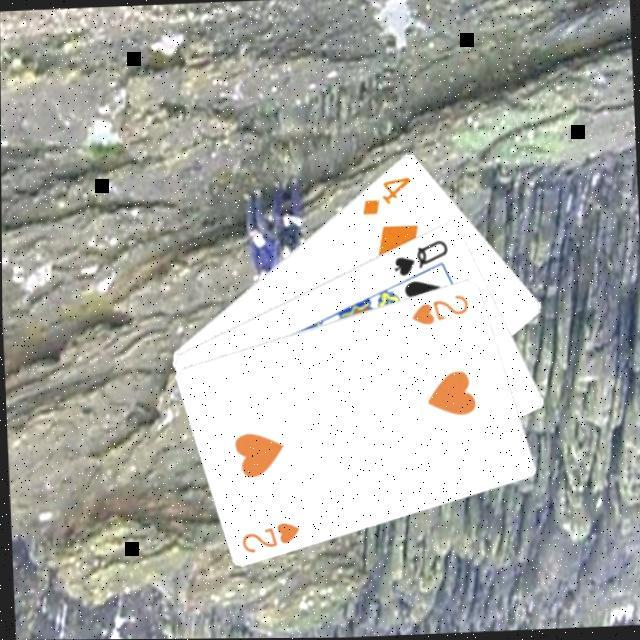2H: (408, 292, 474, 330), (239, 519, 305, 557)
4D: (359, 173, 417, 220)
QS: (390, 238, 453, 281)
